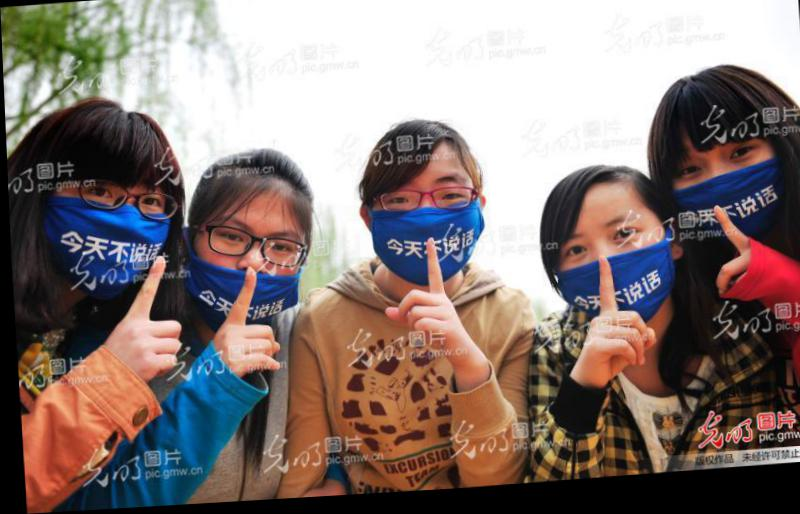OK: (50, 161, 193, 305), (540, 212, 667, 340), (661, 136, 787, 263), (368, 171, 477, 282)
WRONG: (193, 207, 308, 323)
